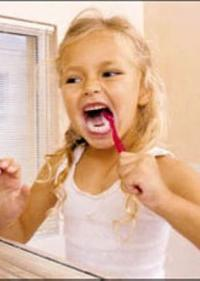person: (1, 9, 200, 278)
